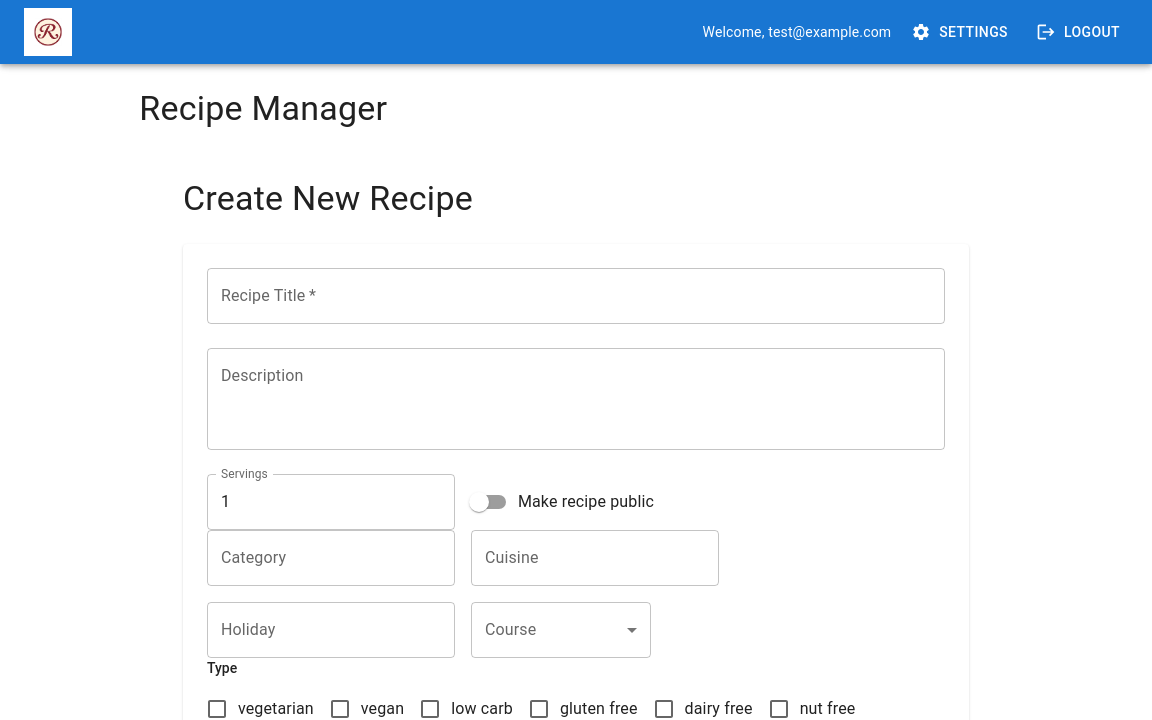
it: RecipeEditPage › Servings input › resets to 1 on blur when field is empty
Clear the number field labelled "Servings" at x=331, y=502, box [207,474,455,530]
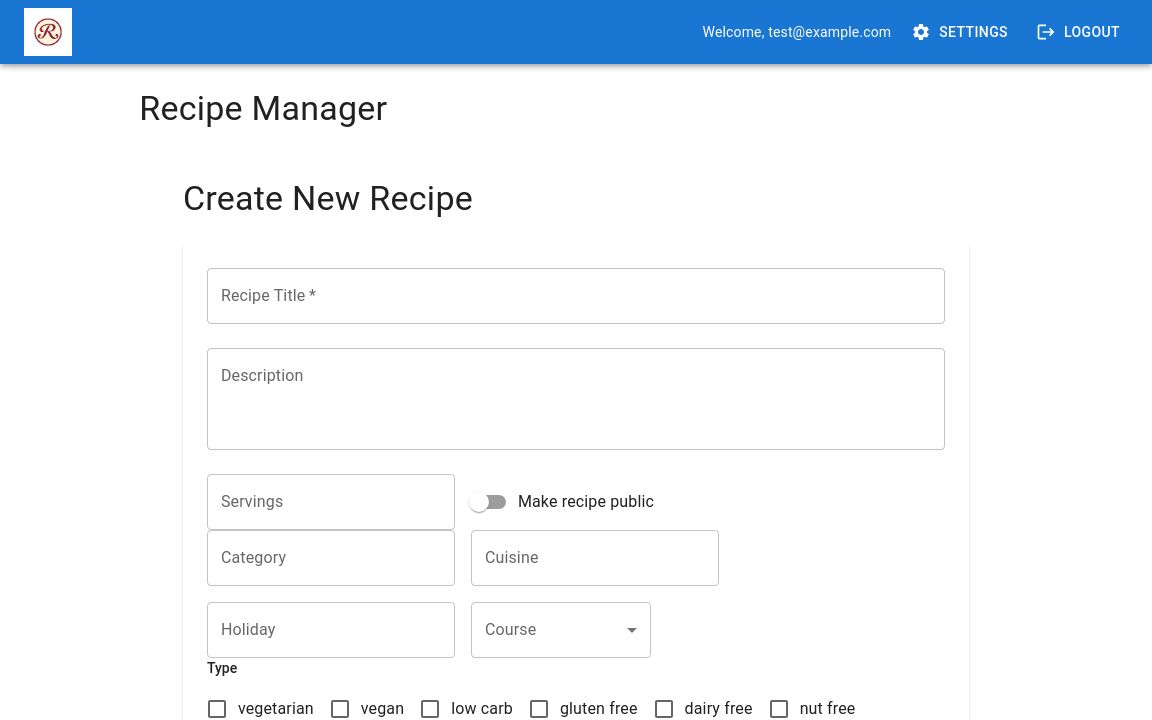
Leave the number field labelled "Servings", box [207,474,455,530]
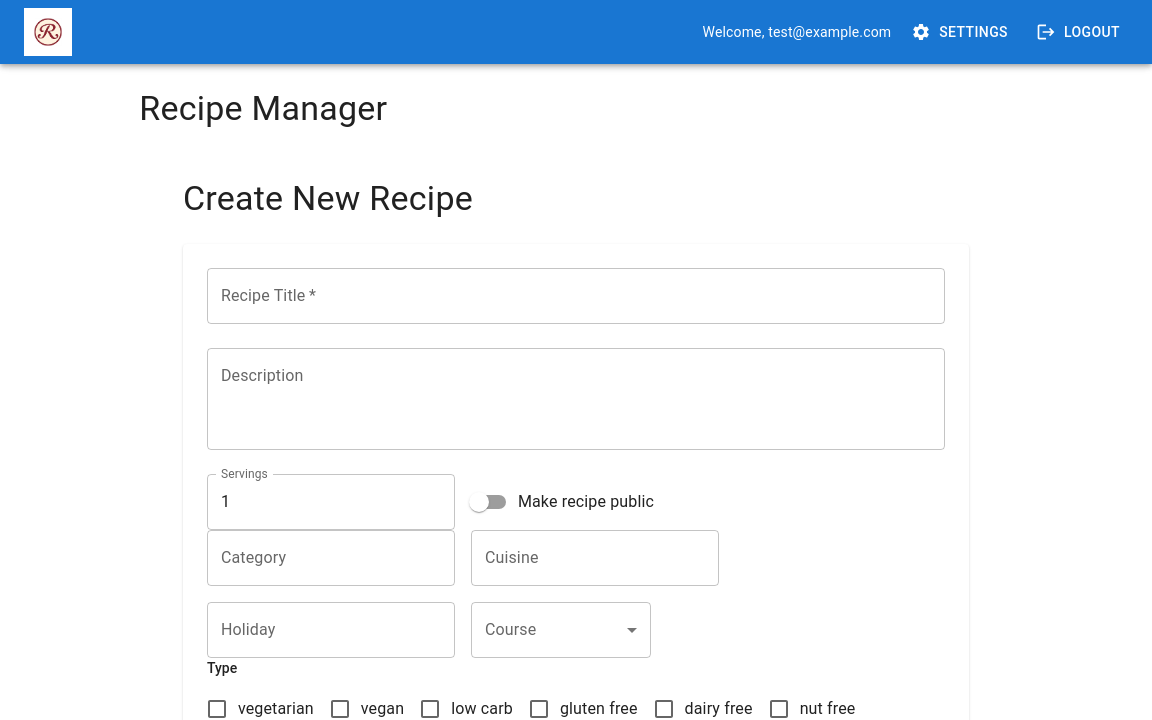
Expected: the number field labelled "Servings" holds "1", [207,474,455,530]
